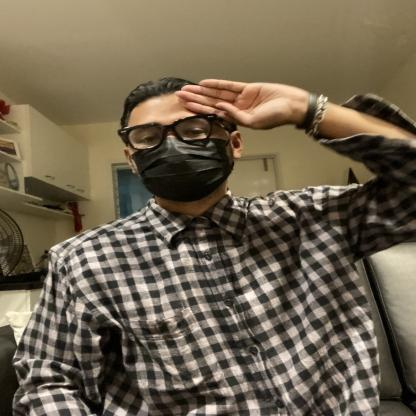Sick: (97, 54, 346, 145)
